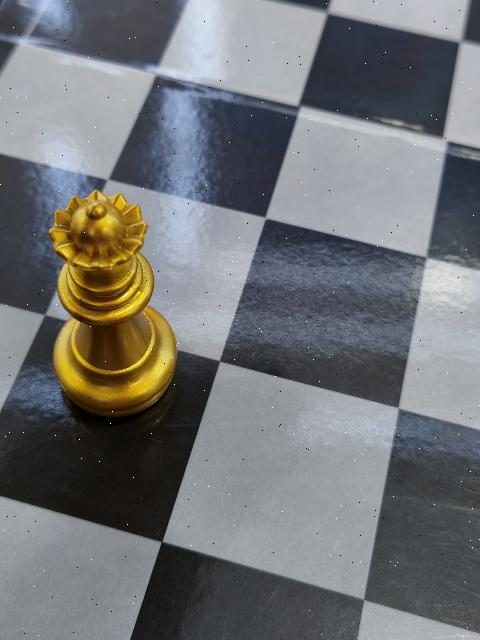black_queen: (48, 188, 177, 417)
